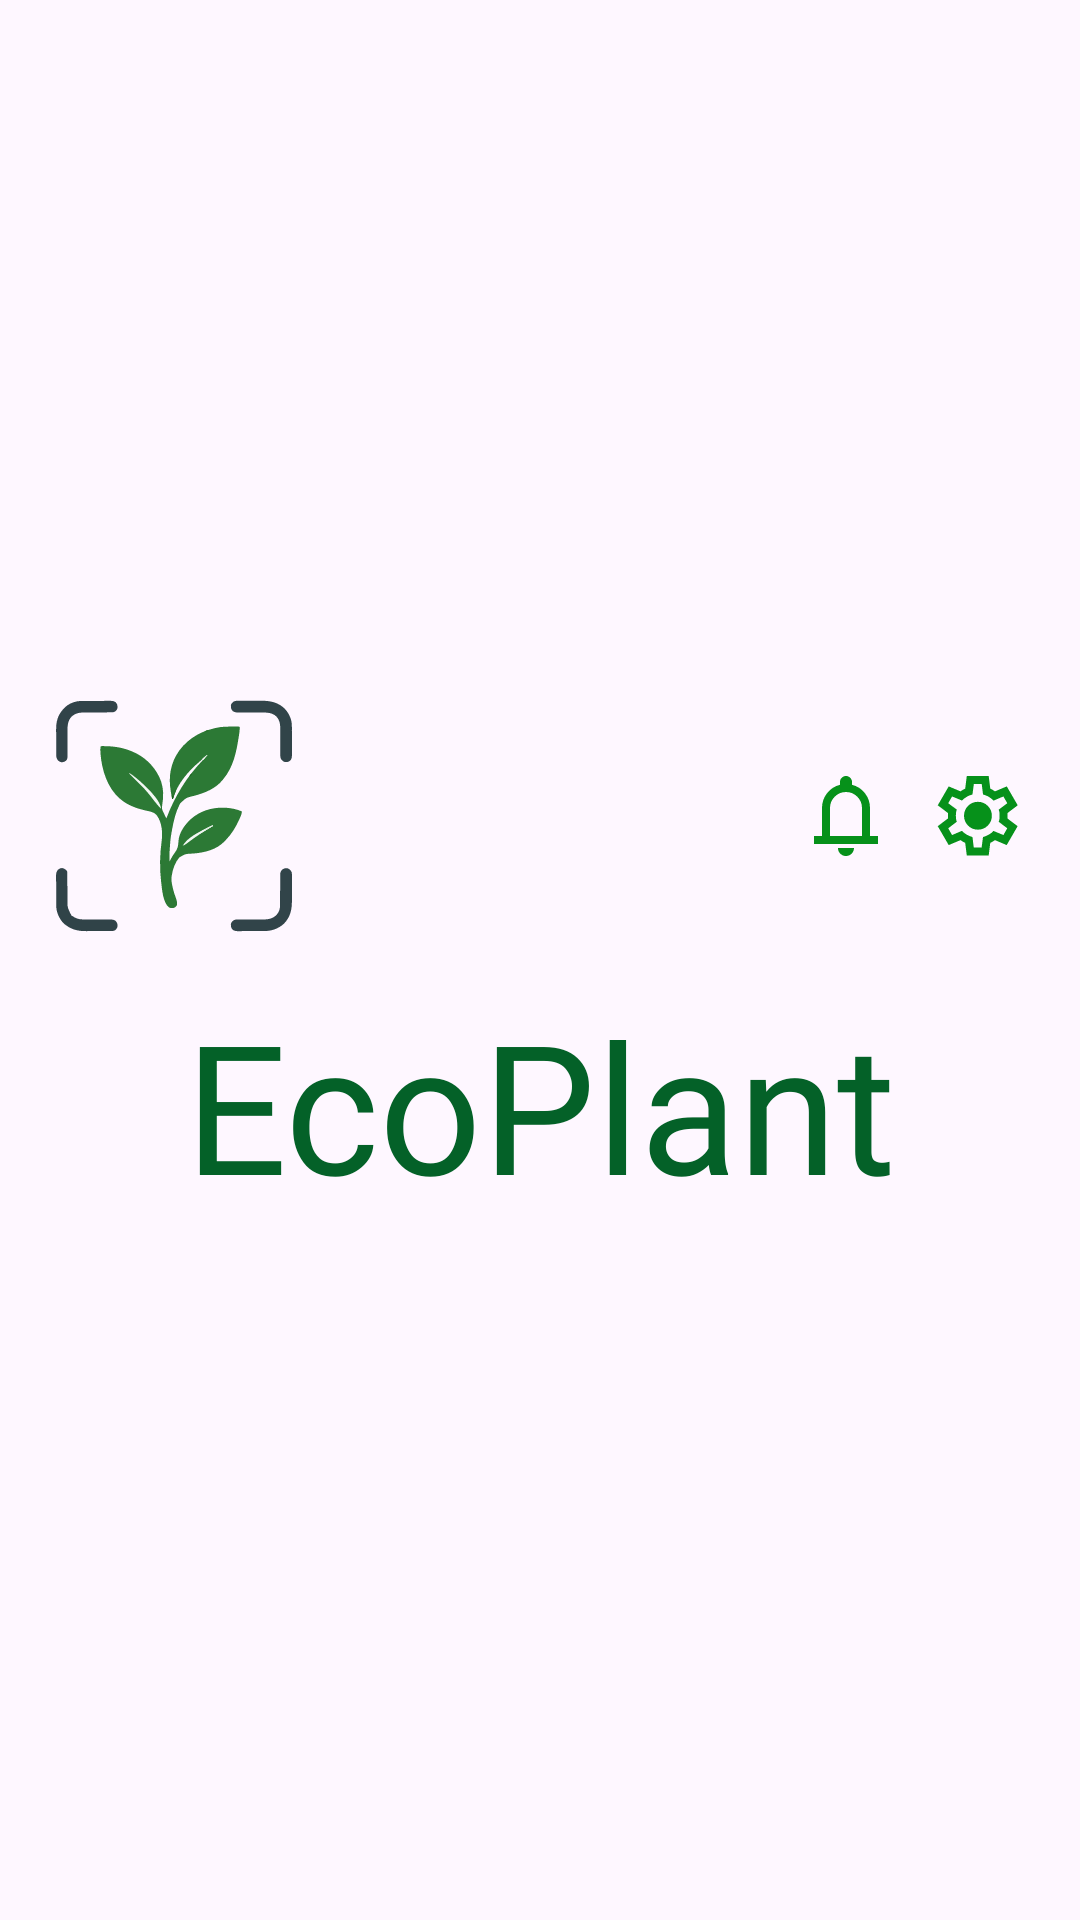

Icons on this 1080px×1920px Android screen, each with the point to tap as (x=x, y=y):
notifications: (x=846, y=816)
settings: (x=977, y=816)
